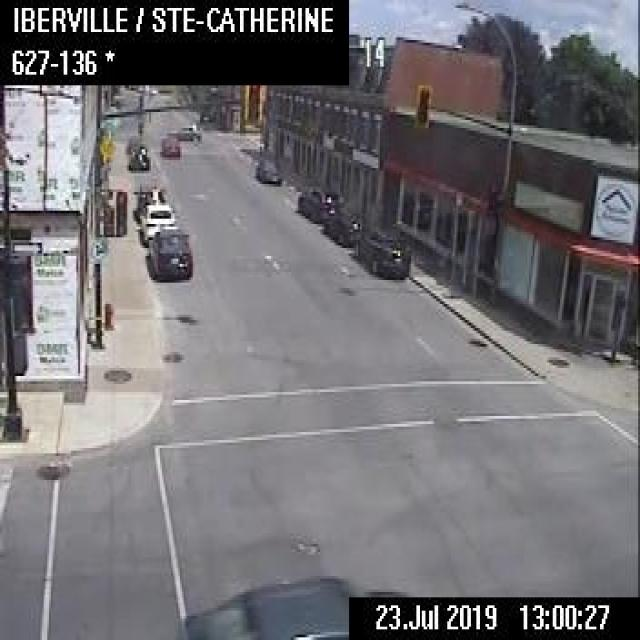vehicle: (171, 571, 405, 637), (352, 224, 410, 276), (147, 228, 191, 278), (320, 204, 367, 242), (138, 201, 177, 244), (296, 184, 342, 220), (132, 180, 164, 222), (166, 120, 200, 143), (254, 157, 281, 182), (127, 142, 149, 170), (159, 134, 180, 156)
